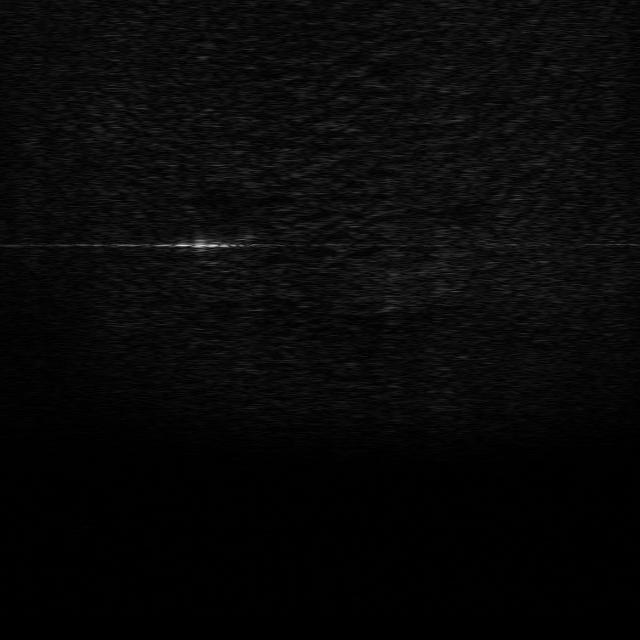plane: (176, 223, 265, 264)
